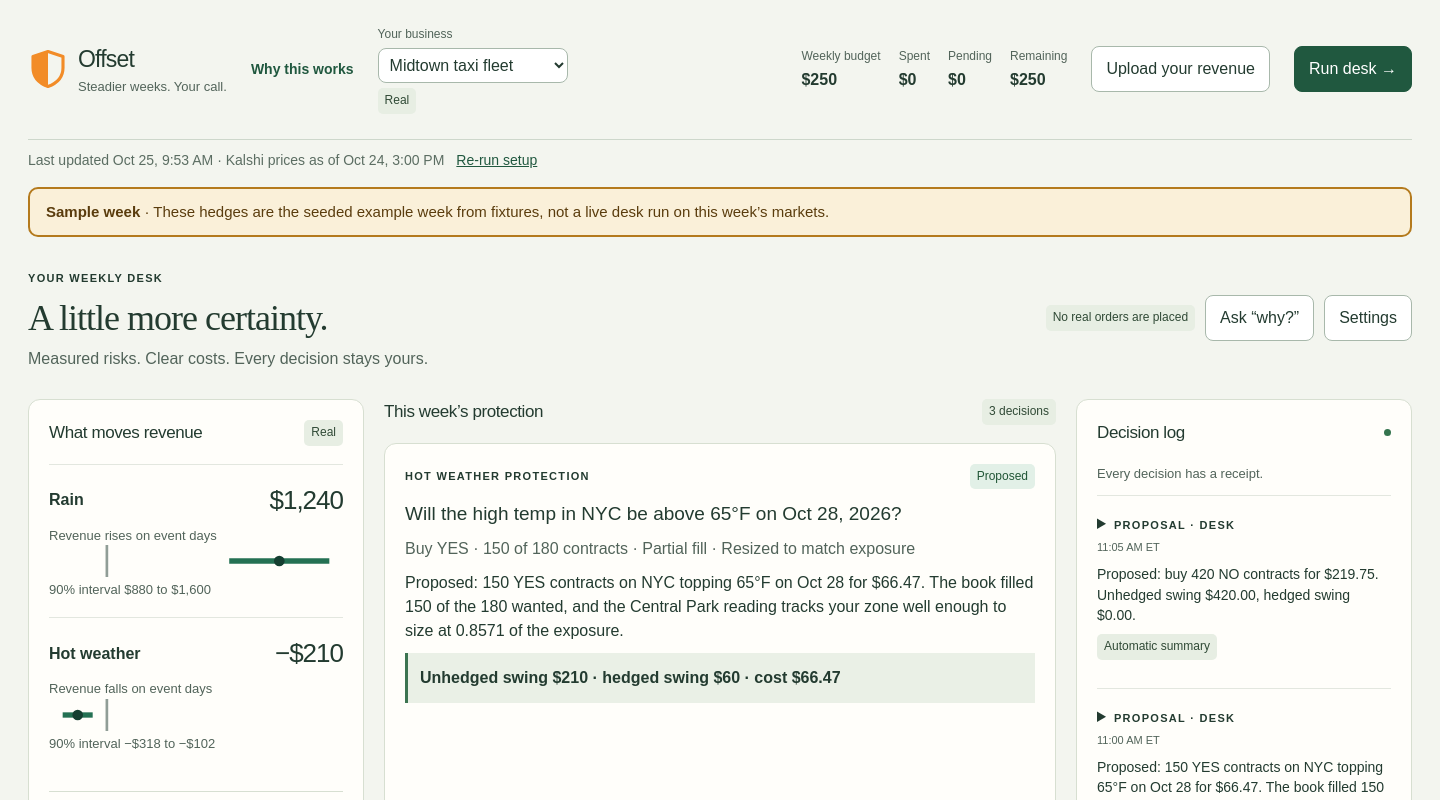
Test: sample week banner (M3 carry-over) › is per business: follows /health sample_businesses
Expected: the text "Sample week" is shown, [46,203,140,220]
Select "Bar across from MSG" in the dropdown labelled "Your business" at point(473, 66), box [378,48,568,83]
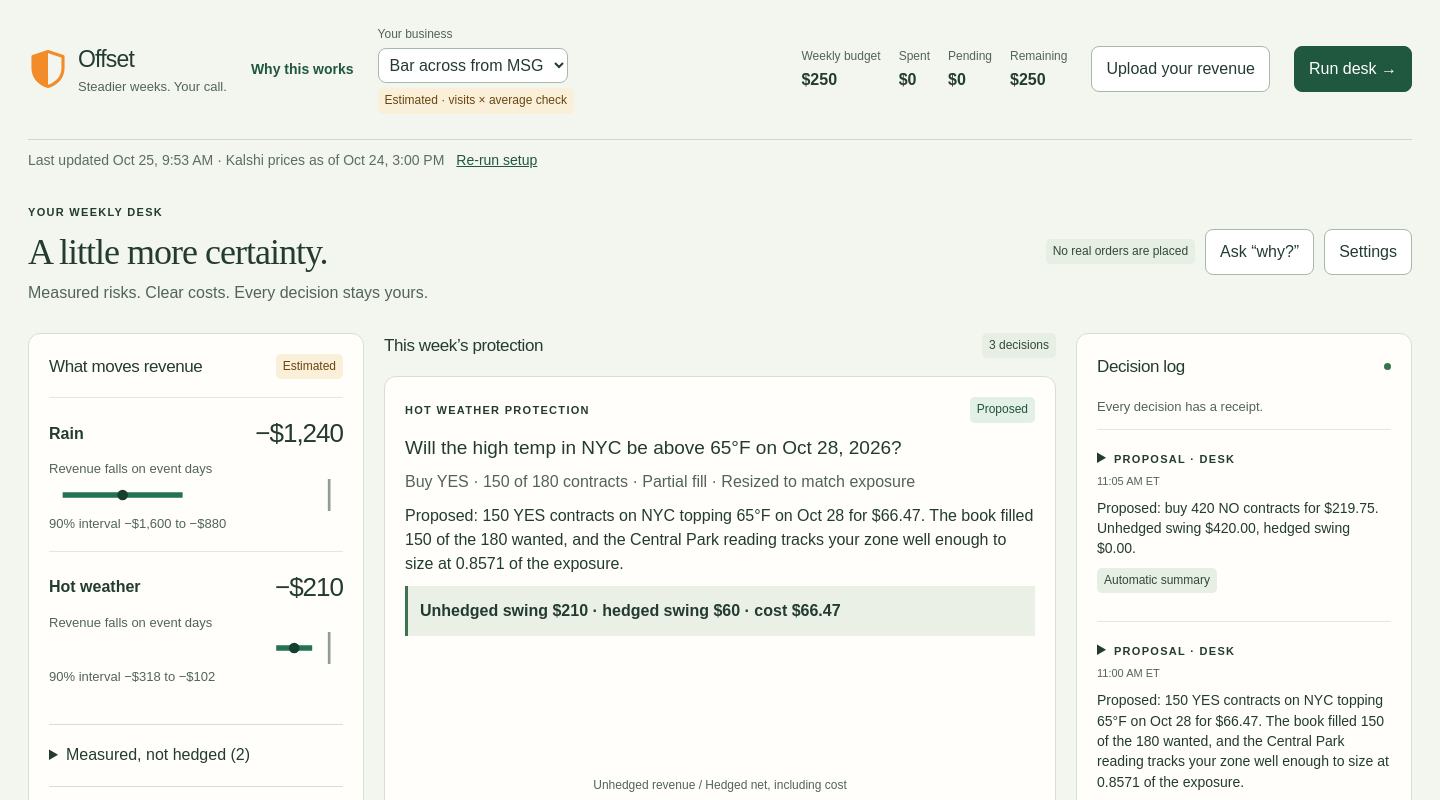
Now the text "−$1,240" is shown, box [255,414,343,453]
Now the text "Sample week" is gone
